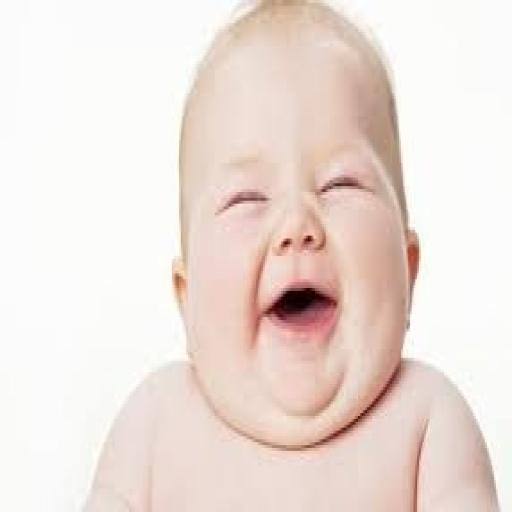laughing: (75, 0, 500, 509)
